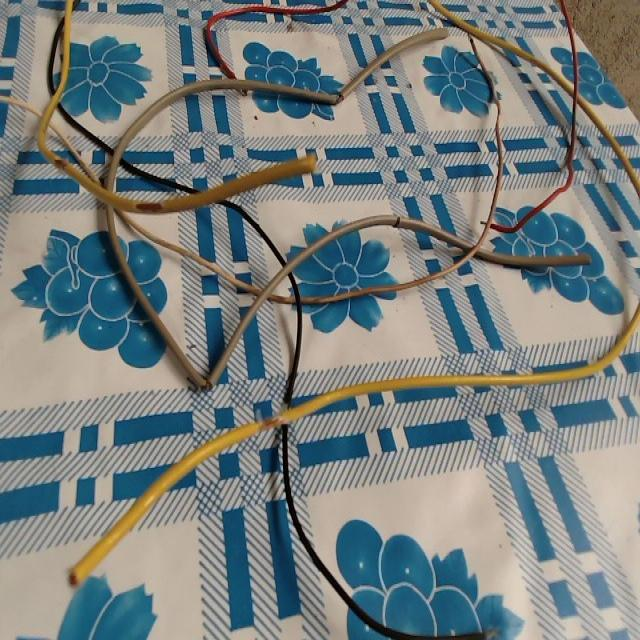-: (253, 408, 290, 432), (133, 196, 165, 216), (60, 563, 83, 589), (195, 365, 214, 396), (325, 85, 347, 107), (48, 151, 71, 172), (387, 211, 406, 236)
